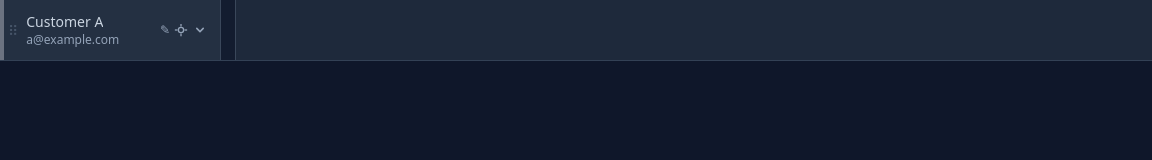
Test case: SwimlaneRow › pressing Escape cancels the rename
Click the button "Customer A" at (65, 22), box 26,12 -> 103,32
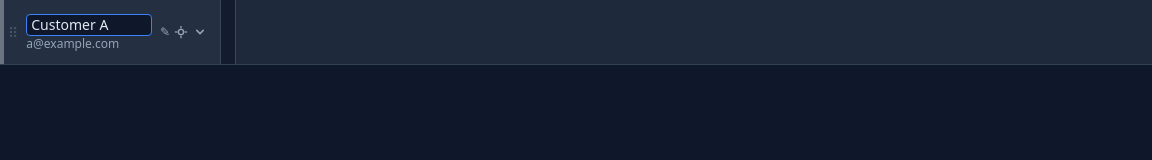
Check: the field is shown, box 26,14 -> 152,36
Press Escape
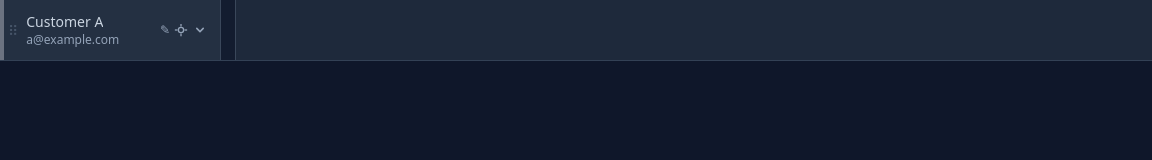
Check: the field is gone
Check: the button "Customer A" is shown, box 26,12 -> 103,32
